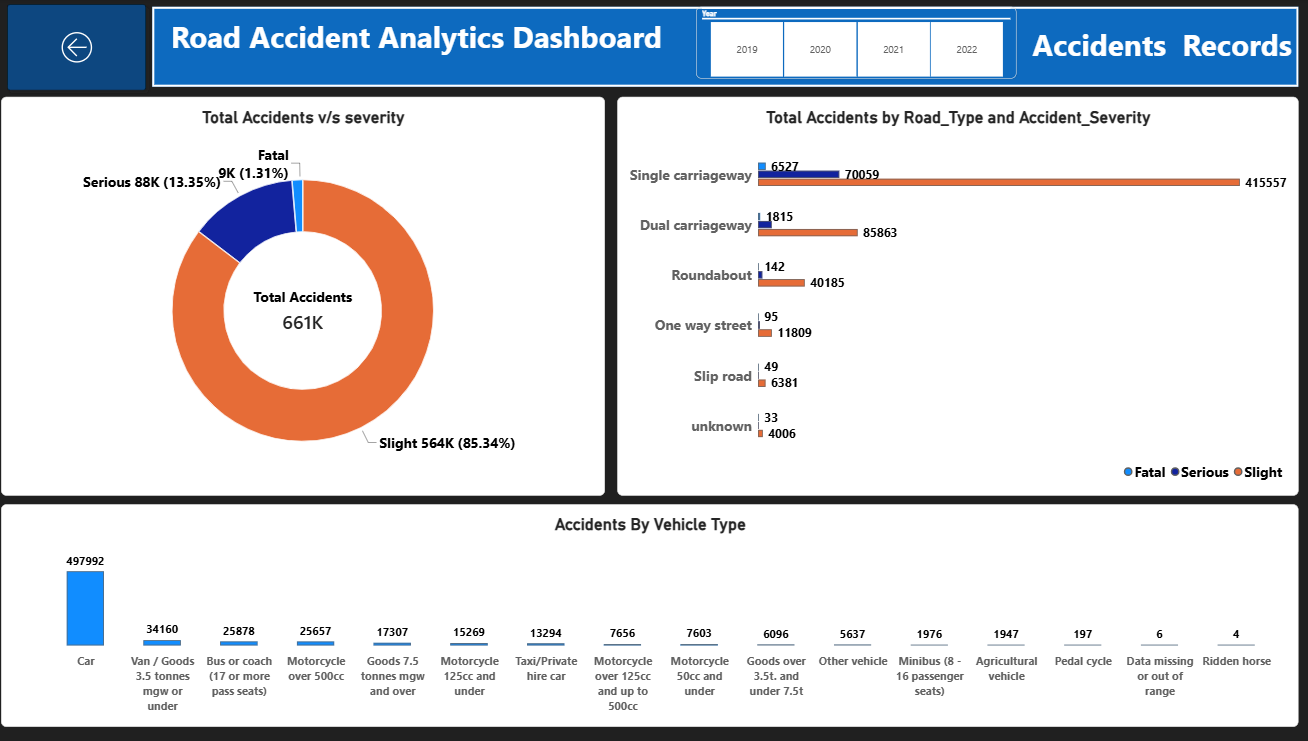

The dashboard page shown, as its layout file describes it:
{"tool":"powerbi","page":{"name":"02_Accident_Severity","canvas":[1920,1080],"ordinal":1},"visuals":[{"type":"donutChart","title":"Total Accidents v/s severity","fields":{"Category":["accident data.Accident_Severity"],"Y":["accident data.Total Accidents"]},"box":[14.5,143,874.1,577.3],"z":0},{"type":"actionButton","box":[14.5,0,219,143],"z":1000},{"type":"clusteredBarChart","fields":{"Category":["accident data.Road_Type"],"Y":["accident data.Total Accidents"],"Series":["accident data.Accident_Severity"]},"box":[906.6,143,986.3,577.3],"z":2000},{"type":"columnChart","title":"Accidents By Vehicle Type","fields":{"Category":["accident data.Vehicle_Type"],"Y":["accident data.Total Accidents"]},"box":[14.5,732.9,1878.4,322.1],"z":3000},{"type":"shape","box":[233.4,12.7,1659.5,115.8],"z":4000},{"type":"textbox","box":[260.6,25.3,716.6,88.7],"z":5000},{"type":"textbox","box":[1498.4,38,394.5,61.5],"z":6000},{"type":"slicer","fields":{"Values":["accident data.Year"]},"box":[1020,12,464,104],"z":6001}]}

Visuals, with their boxes in screenshot pixels (x1, y1, x2, y2), scaled from the page's 1920x1080 canvas onto the 1308x741 screenshot:
"Total Accidents v/s severity" donutChart: detection(10, 98, 605, 494)
actionButton: detection(10, 0, 159, 98)
clusteredBarChart - accident data.Road_Type x accident data.Total Accidents: detection(618, 98, 1290, 494)
"Accidents By Vehicle Type" columnChart: detection(10, 503, 1290, 724)
shape: detection(159, 9, 1290, 88)
textbox: detection(178, 17, 666, 78)
textbox: detection(1021, 26, 1290, 68)
slicer - accident data.Year: detection(695, 8, 1011, 80)
